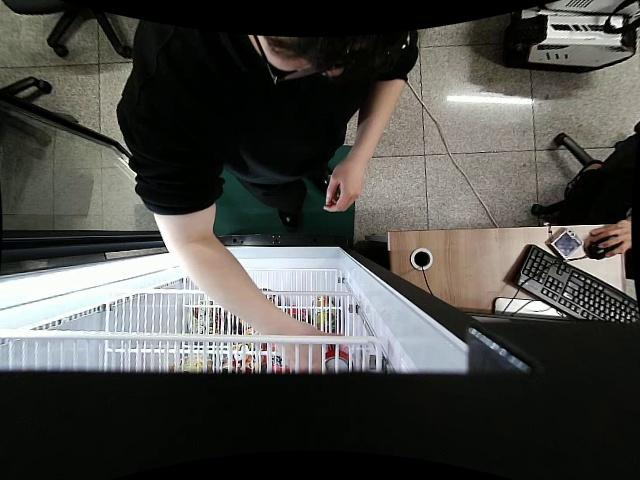00_hand: (276, 318, 346, 376), (322, 158, 365, 213)
